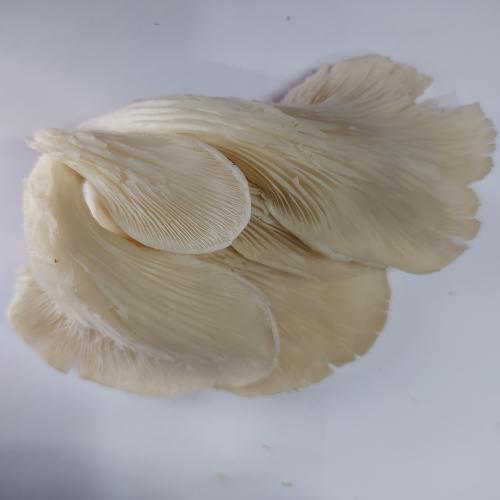Oyster Mushroom: (8, 53, 496, 398)
